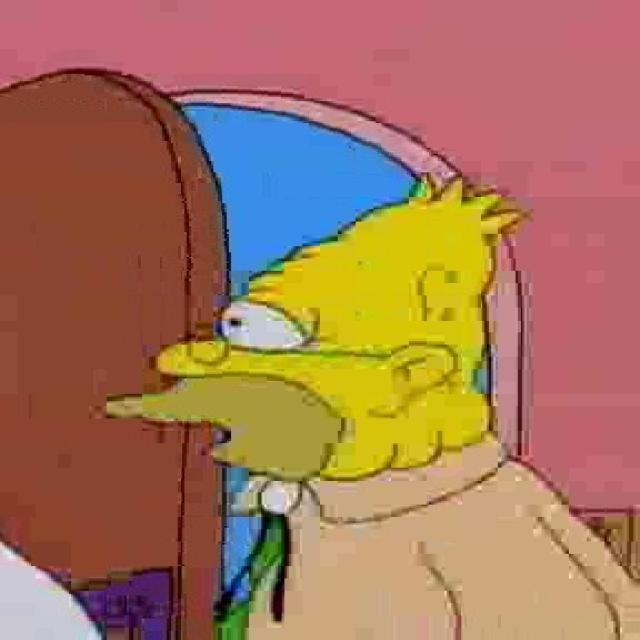Abraham Grampa Simpson: (101, 173, 535, 489)
